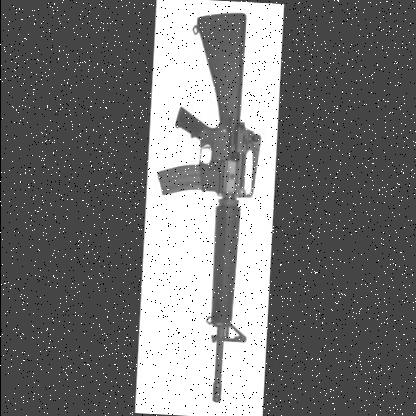rifle: (143, 6, 271, 404)
